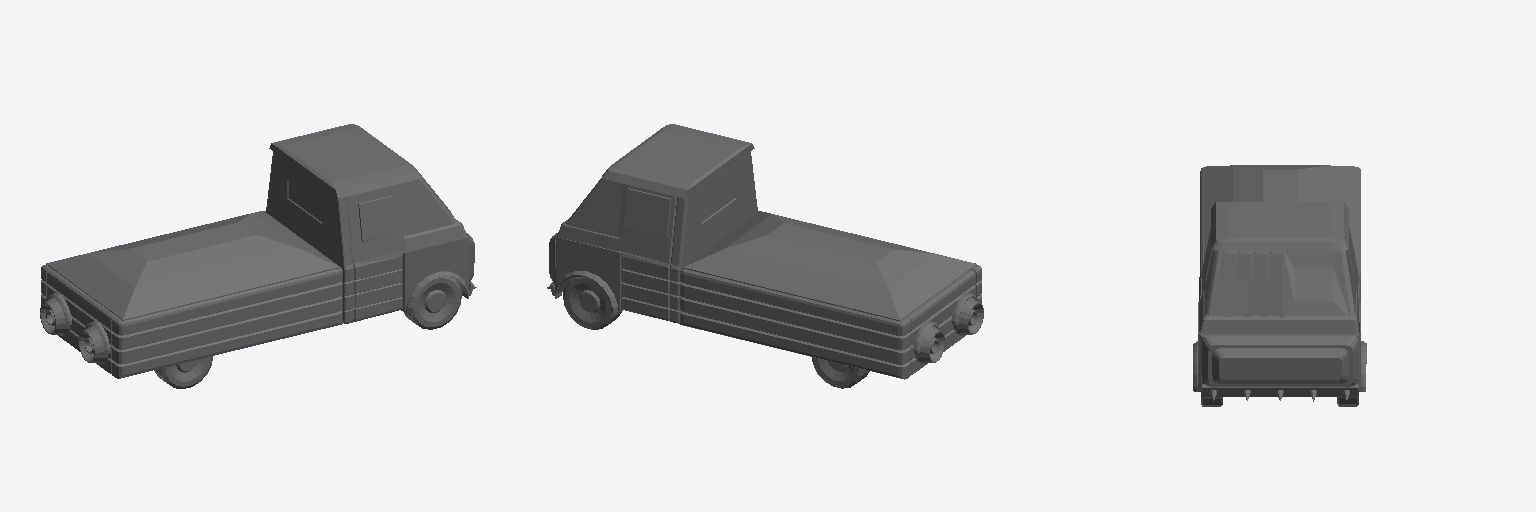
Rendered from flatbed.obj.
3 views of the same model, side by side, from view 1: azimuth 30°, elevation 25°; view 2: azimuth 150°, elevation 25°; view 3: azimuth 270°, elevation 25° (orthographic).
Visible parts, largest first — view 1: Box012_Untitled.012, Object007_Untitled.015, Object006_Untitled.016; view 2: Box012_Untitled.012, Object005_Untitled.014, Object008_Untitled.013; view 3: Box012_Untitled.012.
Part boxes in pixels (x1,y1,x2,y2): Box012_Untitled.012: (40, 124, 476, 378); Object007_Untitled.015: (403, 277, 461, 329); Object006_Untitled.016: (154, 356, 212, 388); Box012_Untitled.012: (547, 124, 983, 379); Object005_Untitled.014: (563, 277, 621, 329); Object008_Untitled.013: (812, 357, 869, 388); Box012_Untitled.012: (1193, 165, 1366, 401).
Bounding box in the file's own units: 161 × 64.67 × 64.69.